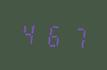four: (18, 17, 40, 48)
seven: (65, 21, 87, 52)
six: (42, 19, 64, 50)
